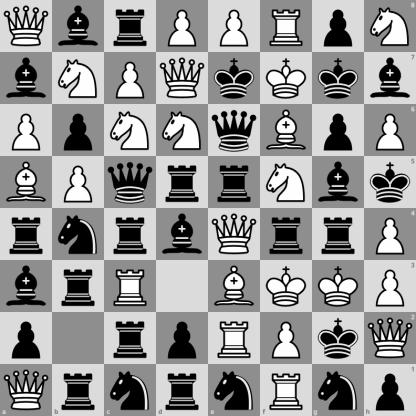B: (1, 157, 52, 208), (209, 261, 260, 312), (261, 105, 312, 156)
K: (261, 53, 312, 104), (261, 261, 312, 312), (313, 261, 364, 312)
N: (364, 0, 416, 52), (53, 53, 104, 104), (105, 105, 156, 156), (157, 105, 208, 156), (261, 157, 312, 208)
P: (364, 104, 416, 156), (364, 260, 416, 312), (364, 209, 416, 260), (1, 105, 52, 156), (53, 157, 104, 208), (105, 53, 156, 104), (157, 1, 208, 52), (209, 1, 260, 52), (261, 313, 312, 364)
Q: (0, 364, 52, 416), (364, 312, 416, 364), (1, 1, 52, 52), (157, 53, 208, 104), (209, 209, 260, 260)
R: (260, 364, 312, 416), (105, 261, 156, 312), (209, 313, 260, 364), (261, 1, 312, 52)
b: (364, 52, 416, 104), (1, 53, 52, 104), (1, 261, 52, 312), (53, 1, 104, 52), (157, 209, 208, 260), (313, 157, 364, 208)
board: (0, 0, 415, 415)
k: (364, 156, 416, 209), (209, 53, 260, 104), (313, 53, 364, 104), (313, 313, 364, 364)
n: (104, 364, 156, 416), (312, 364, 364, 416), (209, 364, 260, 416), (53, 209, 104, 260)
p: (364, 364, 416, 416), (1, 313, 52, 364), (53, 105, 104, 156), (157, 313, 208, 364), (313, 1, 364, 52), (313, 105, 364, 156)
q: (105, 157, 156, 208), (209, 105, 260, 156)
r: (156, 364, 209, 416), (52, 364, 104, 416), (1, 209, 52, 260), (53, 261, 104, 312), (105, 1, 156, 52), (105, 209, 156, 260), (105, 313, 156, 364), (157, 157, 208, 208), (209, 157, 260, 208), (261, 209, 312, 260), (313, 209, 364, 260)
